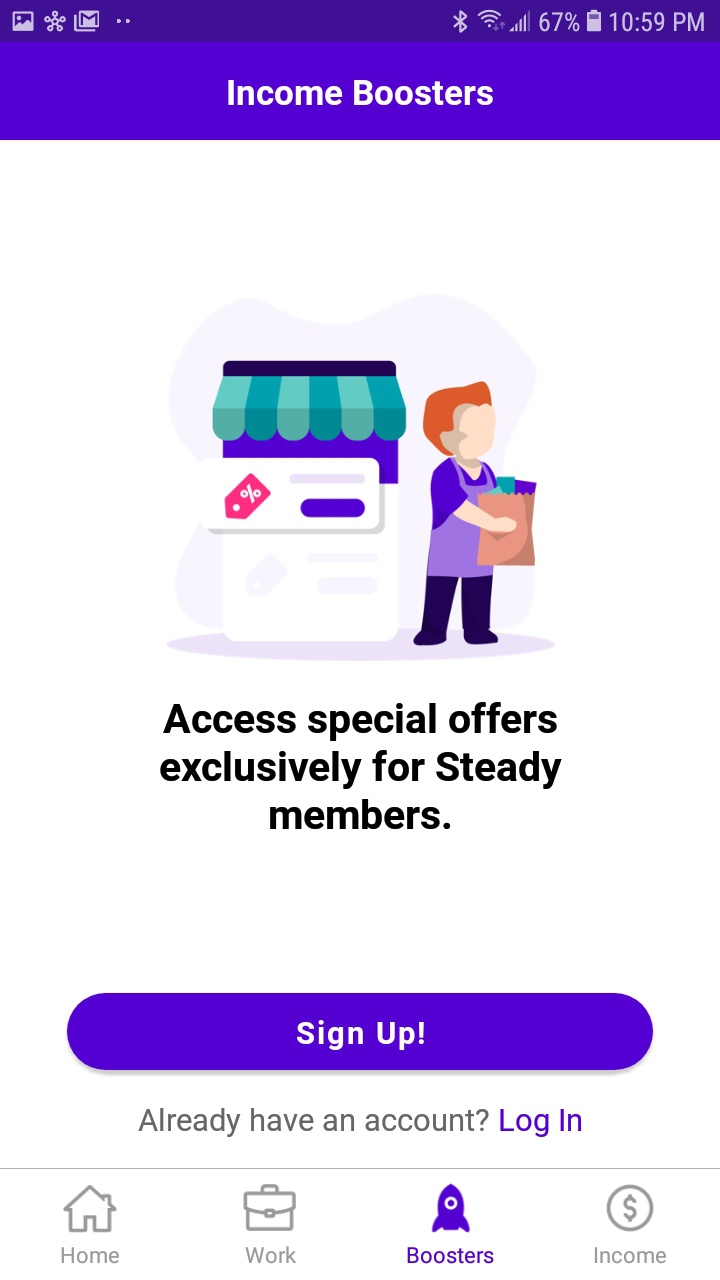Icon: (63, 1184, 118, 1233), (243, 1184, 297, 1232), (606, 1184, 654, 1232)
Image: (166, 294, 556, 662), (431, 1183, 471, 1233)
Text: (160, 702, 563, 830), (138, 1107, 582, 1138), (227, 81, 494, 107), (406, 1246, 494, 1264), (595, 1246, 667, 1264), (61, 1246, 120, 1264), (245, 1245, 297, 1264)
TextButton: (68, 993, 654, 1071)
UpperTaskBar: (1, 1, 720, 43)
